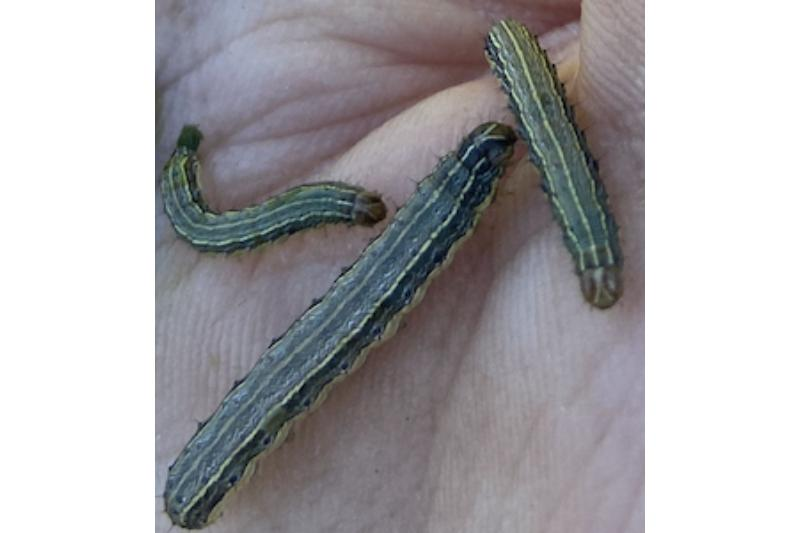fall-armyworm: (163, 122, 520, 533), (485, 21, 623, 312), (161, 125, 389, 257)
